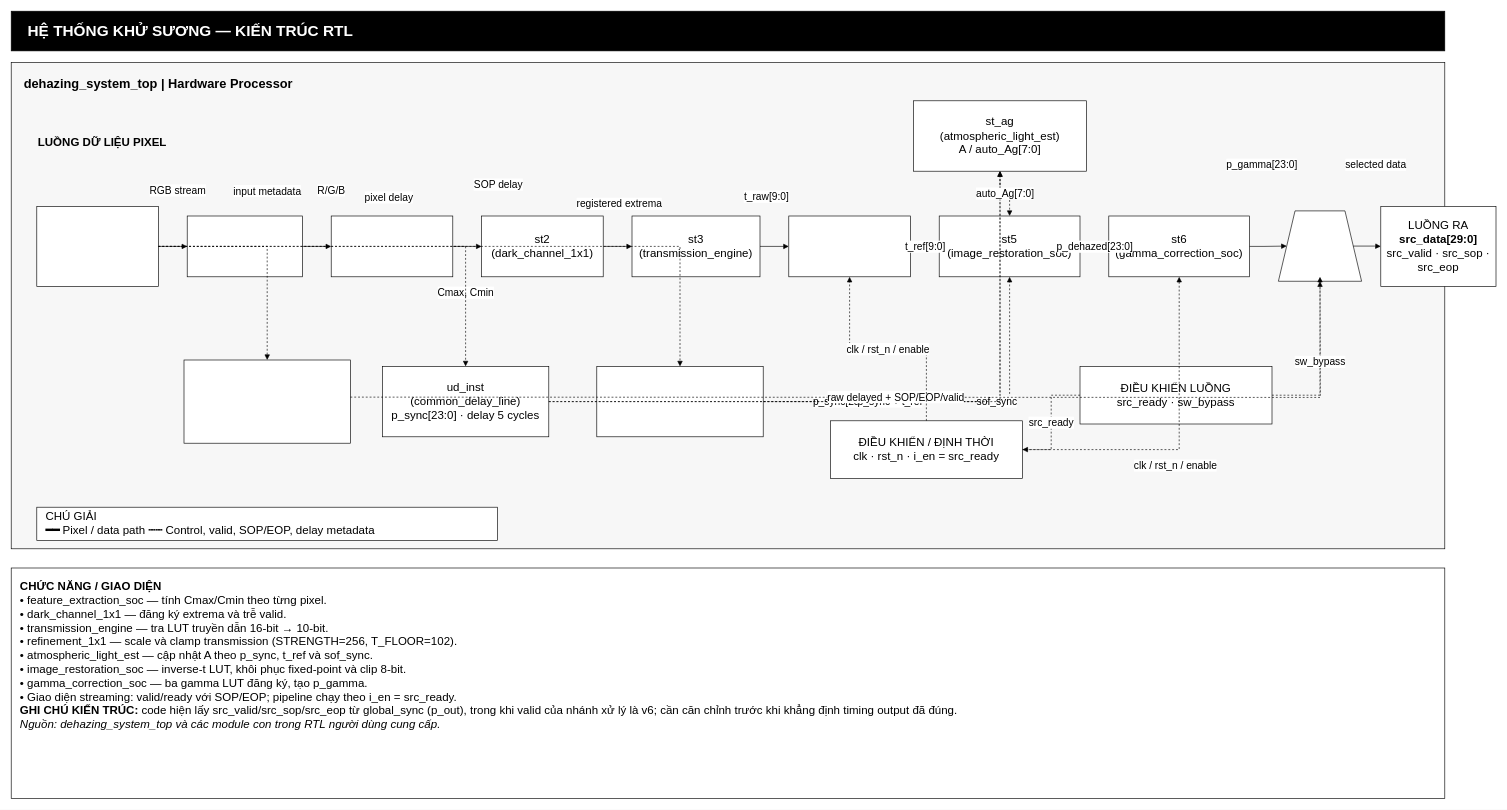
Some shapes in this 1507 by 810 pixel diagram are drawn without their labels. The centre of each missing label's shape, as x and y in pixels:
"BỘ CHỌN ĐẦU RA sw_bypass" goes at point (1320, 245).
"global_sync (common_delay_line) raw data + SOP/EOP/valid delay 11 cycles" goes at point (266, 401).
"LUỒNG VÀO snk_data[29:0] valid · sop · eop" goes at point (97, 246).
"PIXEL UNPACK R[7:0] · G[7:0] · B[7:0]" goes at point (244, 246).
"sof_delay (common_delay_line) sof_sync · delay 5 cycles" goes at point (679, 401).
"st1 (feature_extraction_soc)" goes at point (392, 246).
"st4 (refinement_1x1)" goes at point (849, 246).
